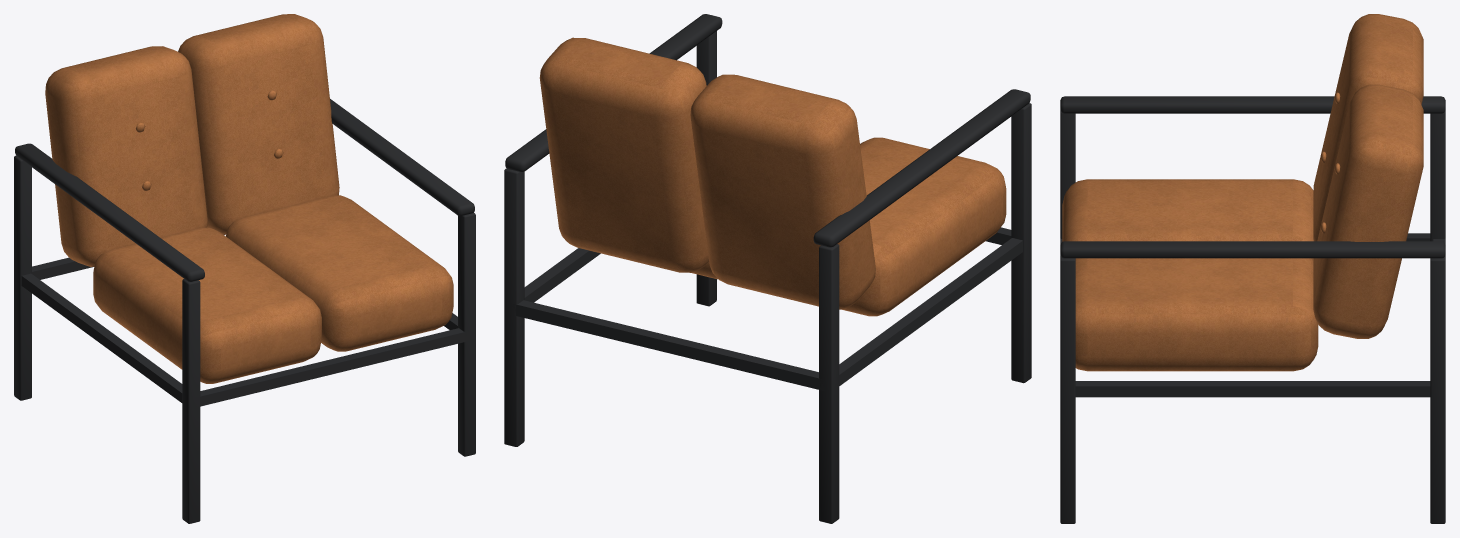
The model's file is lounge.lounge-chair-leather.glb.
The picture shows the model from 3 angles, left to right: view 1: azimuth 30°, elevation 25°; view 2: azimuth 150°, elevation 25°; view 3: azimuth 270°, elevation 25°; orthographic projection. The views are drawn at different scales.
Parts seen in each view (by area): view 1: lounge.lounge-chair-leather.001; view 2: lounge.lounge-chair-leather.001; view 3: lounge.lounge-chair-leather.001.
Part boxes in pixels (x1,y1,x2,y2): lounge.lounge-chair-leather.001: (14, 14, 475, 523); lounge.lounge-chair-leather.001: (504, 14, 1031, 523); lounge.lounge-chair-leather.001: (1060, 14, 1445, 523).
Size of the model in its own units: 0.72 by 0.8099 by 0.76.
2 materials, 1 textured.
